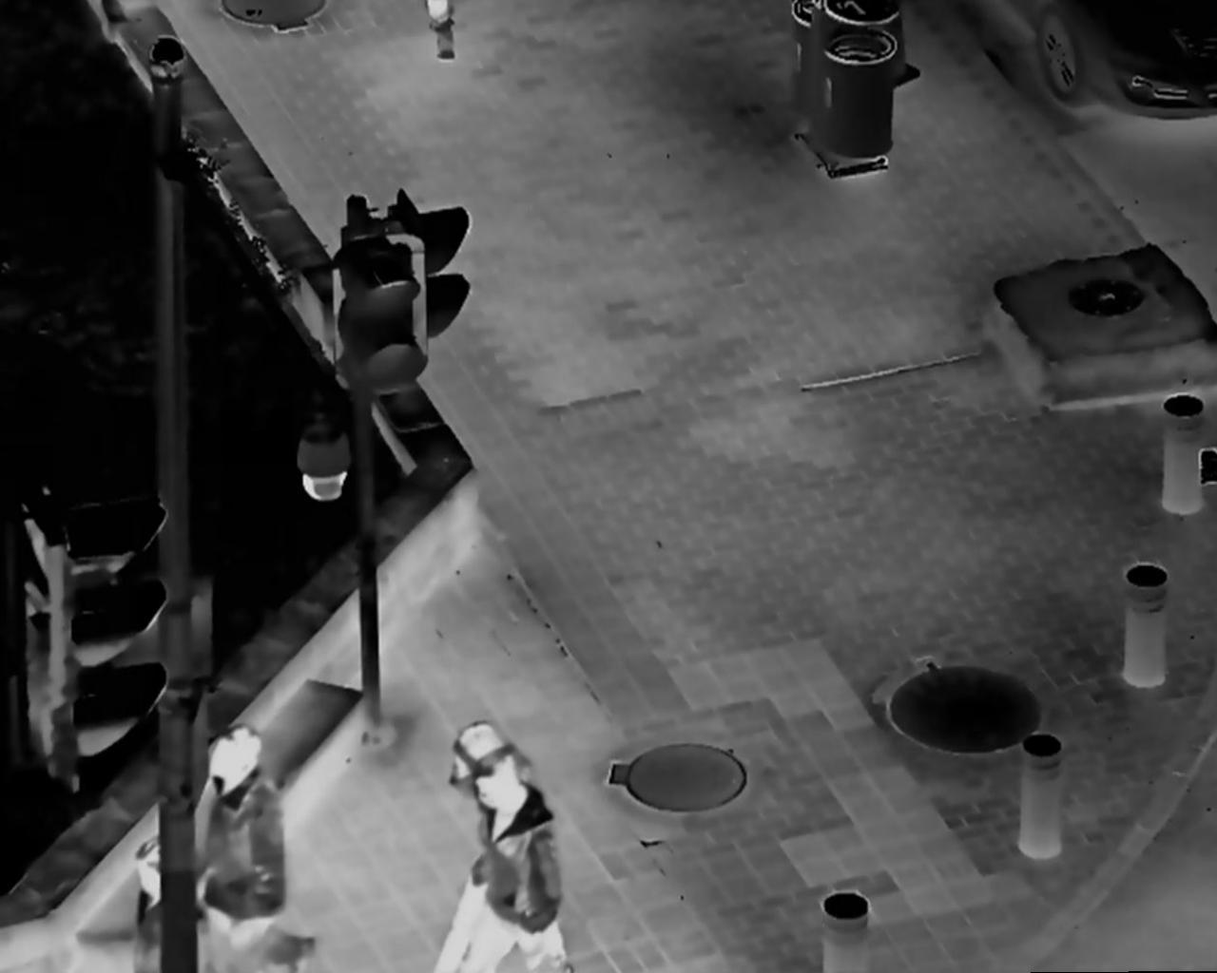person: (440, 719, 540, 973), (468, 760, 581, 973), (202, 725, 295, 973), (114, 836, 187, 973)
